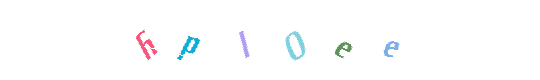0: (230, 0, 310, 80)
1: (225, 0, 305, 80)
E: (275, 0, 355, 80), (302, 0, 382, 80)
H: (105, 0, 185, 80)
P: (149, 0, 229, 80)
